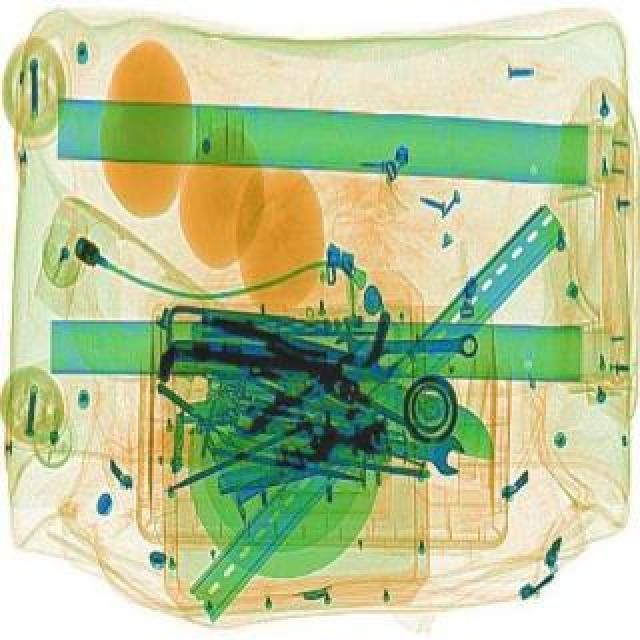knife: (188, 308, 510, 462)
